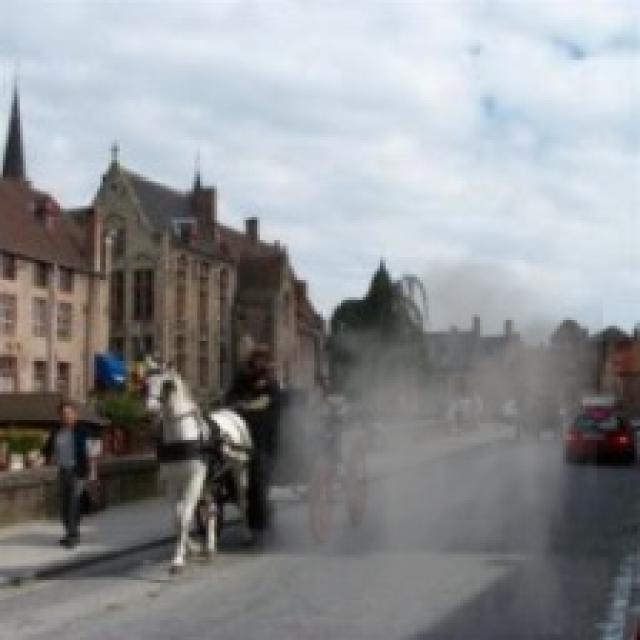Smoke: (254, 237, 603, 634)
